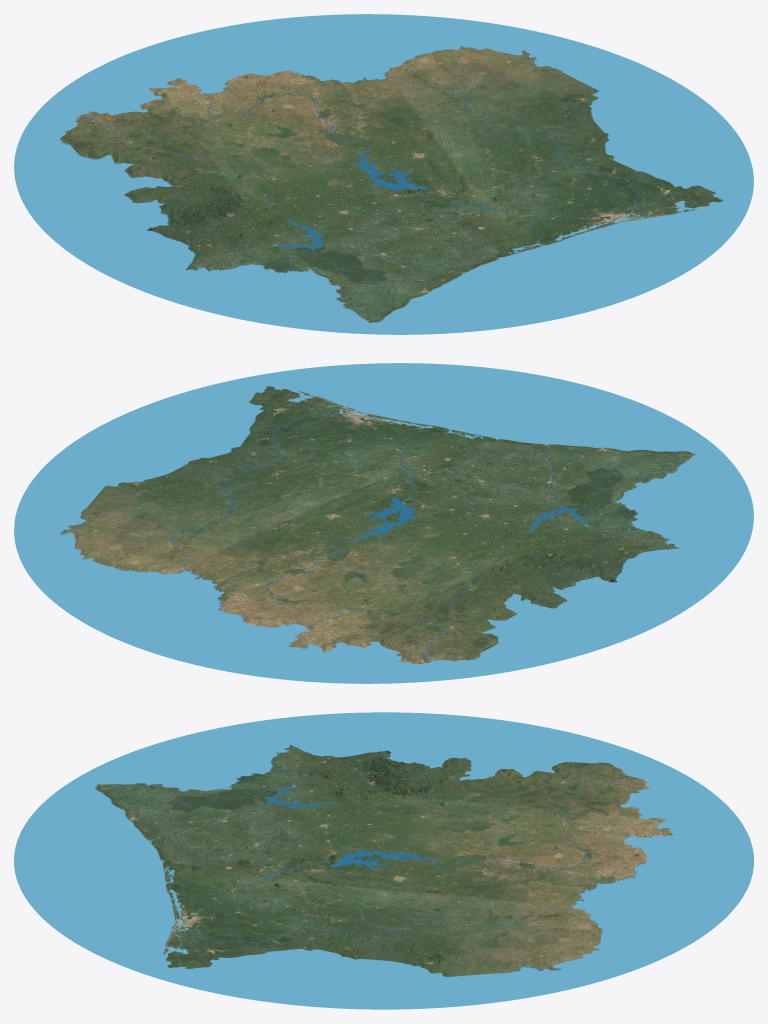
Rendered from CIV-previa-terrain.glb.
3 renders of one model, top to bottom at view 1: azimuth 30°, elevation 25°; view 2: azimuth 150°, elevation 25°; view 3: azimuth 270°, elevation 25°, orthographic. The views are drawn at different scales.
Visible parts, largest first — view 1: Costa do Marfim; view 2: Costa do Marfim; view 3: Costa do Marfim.
Boxes of the visible parts, x1,y1,x2,y2 form: Costa do Marfim: (14, 14, 753, 334); Costa do Marfim: (14, 363, 753, 683); Costa do Marfim: (14, 712, 753, 1009).
Size of the model in its own units: 2.14 by 0.028 by 2.25.
1 material, 1 textured.
